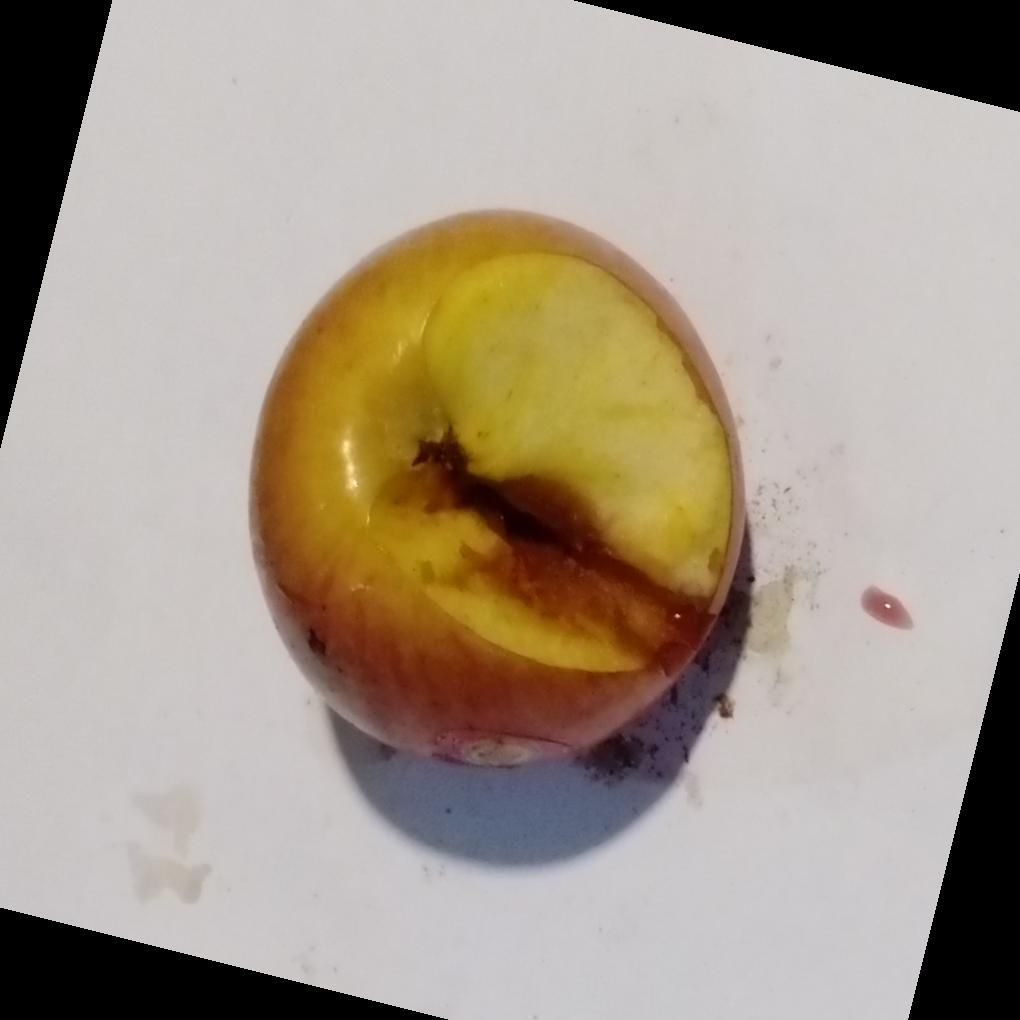FreshOrange: (248, 212, 749, 774)
